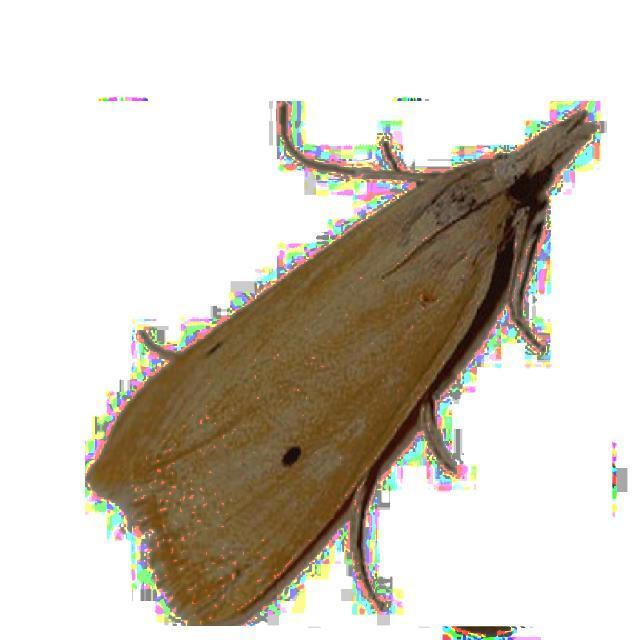stem-borer: (86, 102, 614, 628)
